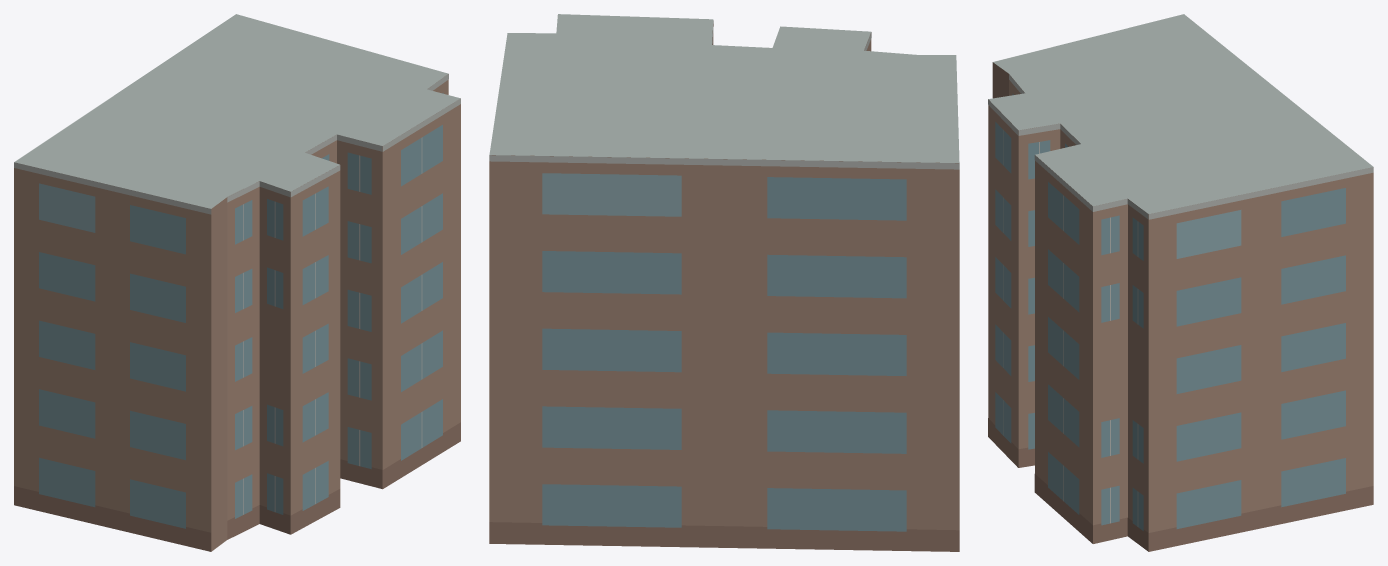
The model's file is survey-upis-32740178.glb.
3 views of the same model, side by side, from view 1: azimuth 30°, elevation 25°; view 2: azimuth 150°, elevation 25°; view 3: azimuth 270°, elevation 25° (orthographic). The views are drawn at different scales.
Parts seen in each view (by area): view 1: survey-upis-32740178.tmp; view 2: survey-upis-32740178.tmp; view 3: survey-upis-32740178.tmp.
Part boxes in pixels (x1,y1,x2,y2): survey-upis-32740178.tmp: (14,14,460,551); survey-upis-32740178.tmp: (489,14,959,551); survey-upis-32740178.tmp: (988,14,1373,551).
Size of the model in its own units: 18.7 by 14.7 by 15.22.
